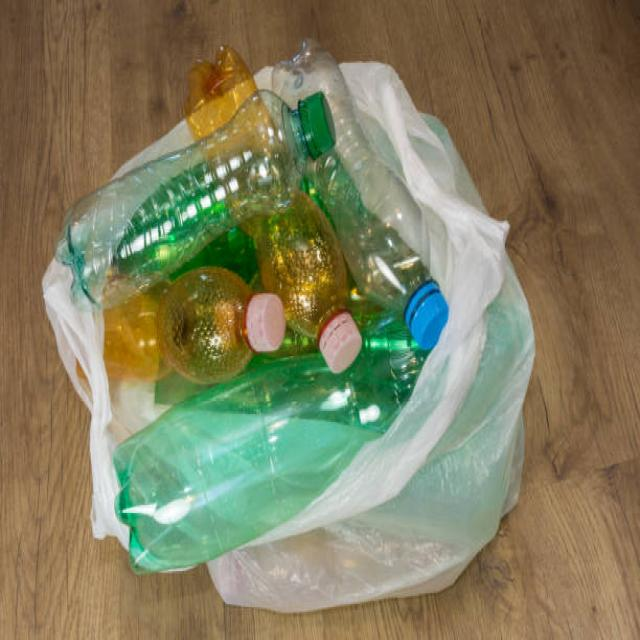trash: (33, 12, 549, 626)
